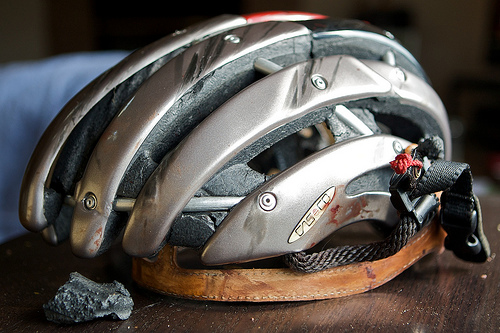helmet: (34, 34, 479, 281)
